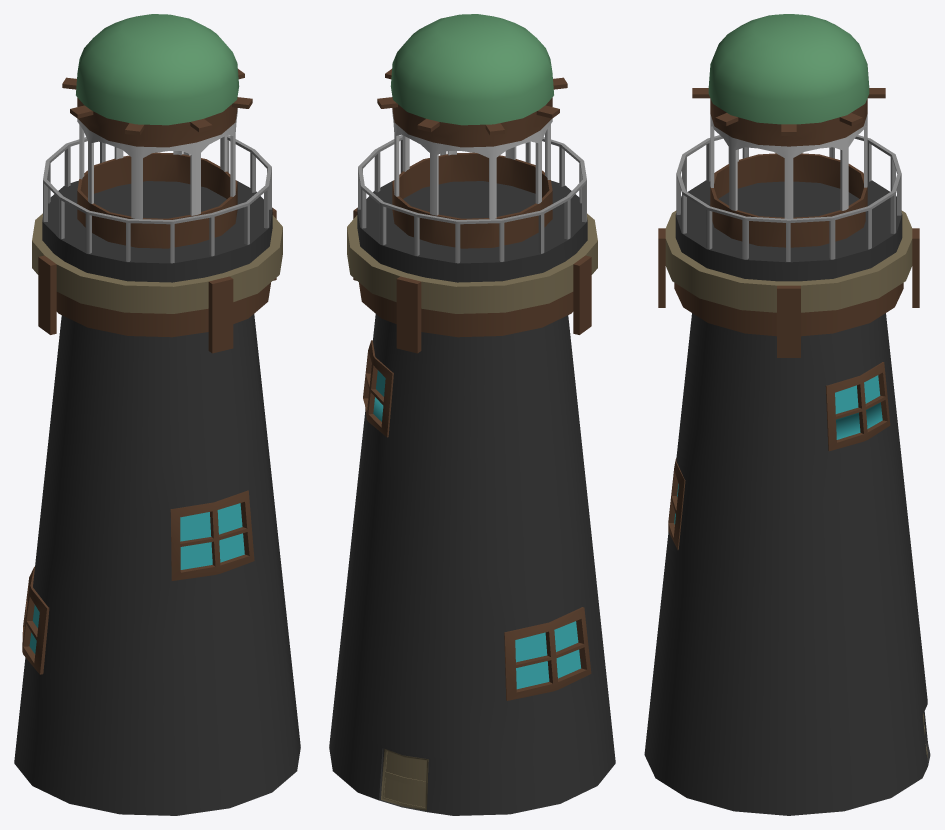
The model's file is Prop_Lighthouse_Fabi_M.fbx.
3 renders of one model, left to right at view 1: azimuth 30°, elevation 25°; view 2: azimuth 150°, elevation 25°; view 3: azimuth 270°, elevation 25°, orthographic.
Parts seen in each view (by area): view 1: Lighthouse; view 2: Lighthouse; view 3: Lighthouse.
Boxes of the visible parts, left/top/right/bottom form: Lighthouse: left=14, top=14, right=300, bottom=815; Lighthouse: left=329, top=14, right=615, bottom=815; Lighthouse: left=644, top=14, right=930, bottom=815.
Bounding box in the file's own units: 1493 × 4147 × 1477.
